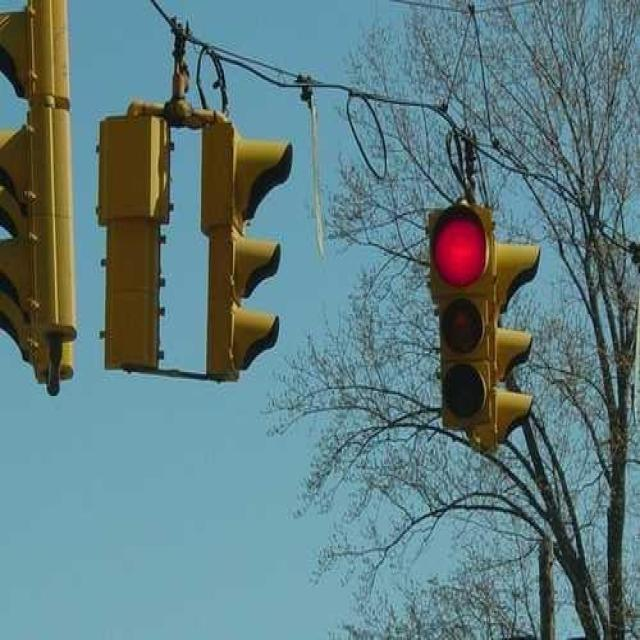Traffic Light -Red-: (421, 200, 499, 435)
